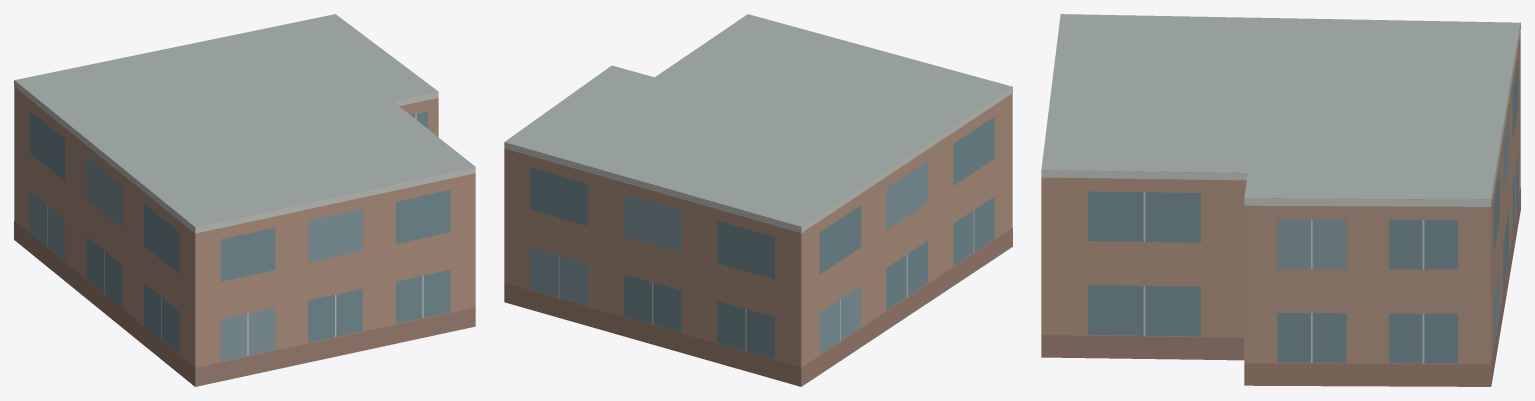
File: survey-upis-32942352.glb
The picture shows the model from 3 angles, left to right: view 1: azimuth 30°, elevation 25°; view 2: azimuth 150°, elevation 25°; view 3: azimuth 270°, elevation 25°; orthographic projection. The views are drawn at different scales.
Visible parts, largest first — view 1: survey-upis-32942352.tmp; view 2: survey-upis-32942352.tmp; view 3: survey-upis-32942352.tmp.
Boxes of the visible parts, x1,y1,x2,y2 form: survey-upis-32942352.tmp: [14, 14, 475, 386]; survey-upis-32942352.tmp: [504, 14, 1012, 386]; survey-upis-32942352.tmp: [1041, 14, 1520, 386].
Bounding box in the file's own units: 12.95 × 6.1 × 14.15.
